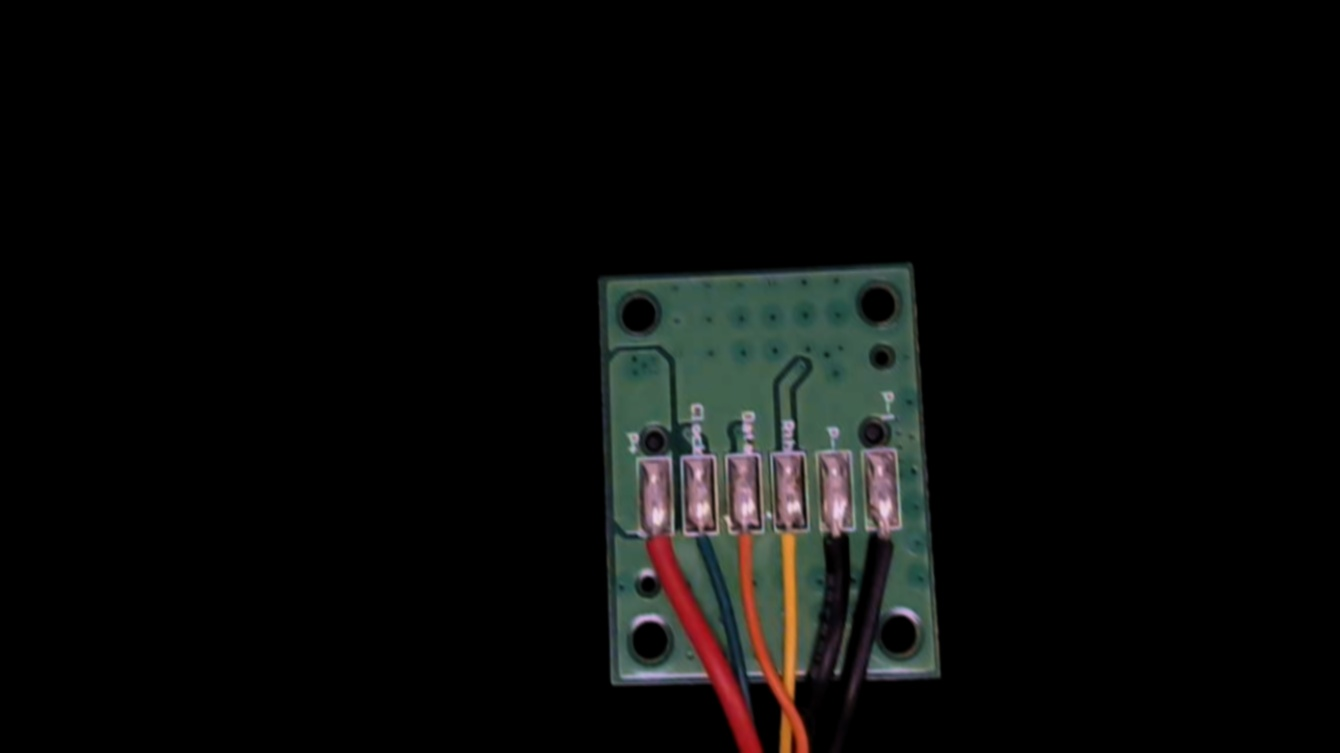Black: (814, 506, 857, 599)
Black1: (866, 505, 909, 591)
Green: (679, 515, 722, 579)
Orange: (724, 511, 764, 603)
Red: (634, 509, 676, 598)
Yellow: (768, 510, 810, 604)
